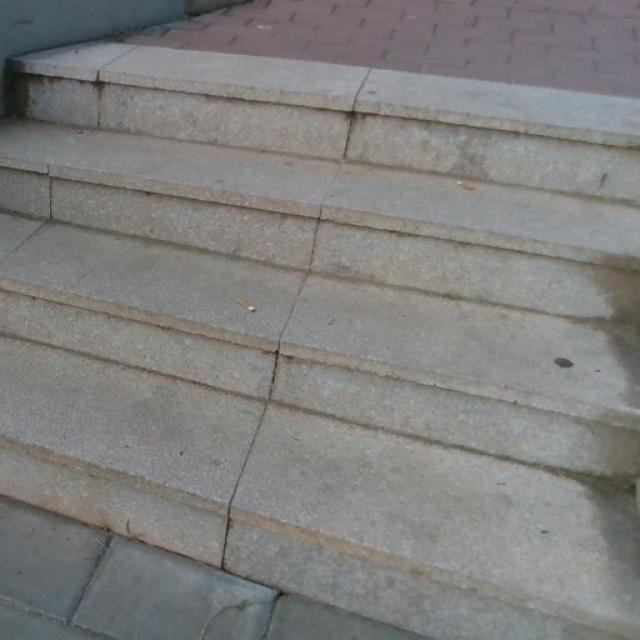Stairs: (0, 36, 639, 639)
